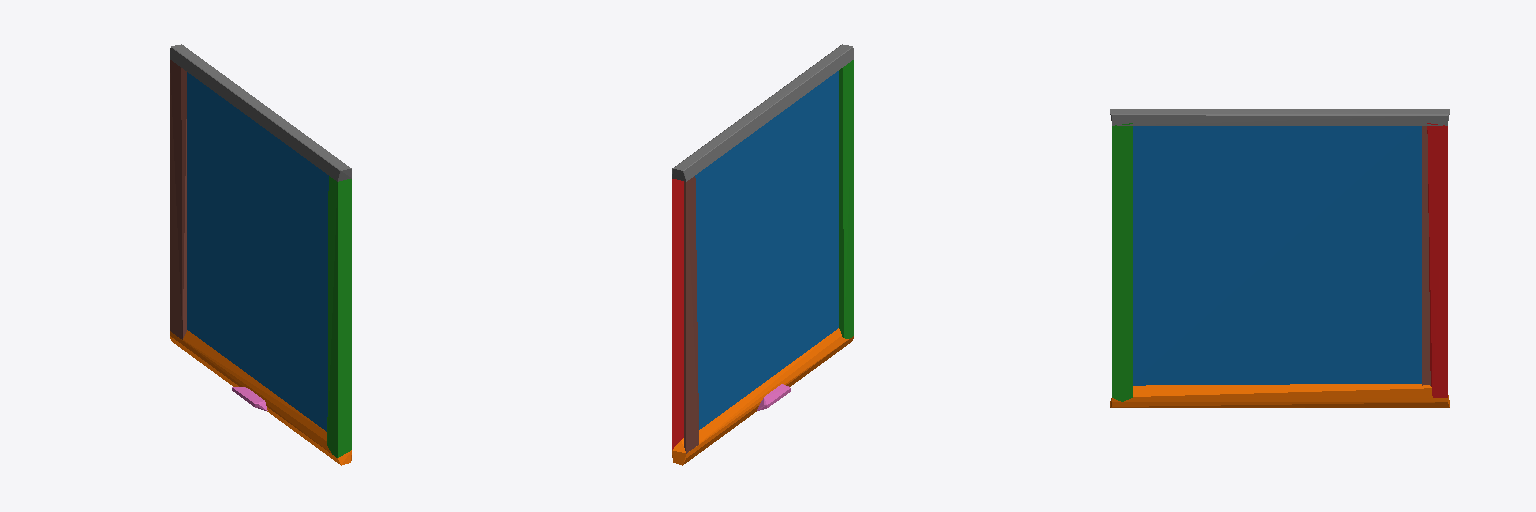
Rendered from Casement_SlidePart_02_cvx.obj.
3 views of the same model, side by side, from view 1: azimuth 30°, elevation 25°; view 2: azimuth 150°, elevation 25°; view 3: azimuth 270°, elevation 25° (orthographic).
Parts seen in each view (by area): view 1: scenes/apartment_0000_coacd/output/Unknown/Casement_SlidePart_02; view 2: scenes/apartment_0000_coacd/output/Unknown/Casement_SlidePart_02; view 3: scenes/apartment_0000_coacd/output/Unknown/Casement_SlidePart_02.
Boxes of the visible parts, box(x1,y1,x2,y2) form: scenes/apartment_0000_coacd/output/Unknown/Casement_SlidePart_02: box(170, 44, 351, 465); scenes/apartment_0000_coacd/output/Unknown/Casement_SlidePart_02: box(672, 44, 853, 465); scenes/apartment_0000_coacd/output/Unknown/Casement_SlidePart_02: box(1110, 109, 1449, 407).
Size of the model in its own units: 0.2899 by 3.4 by 3.56.